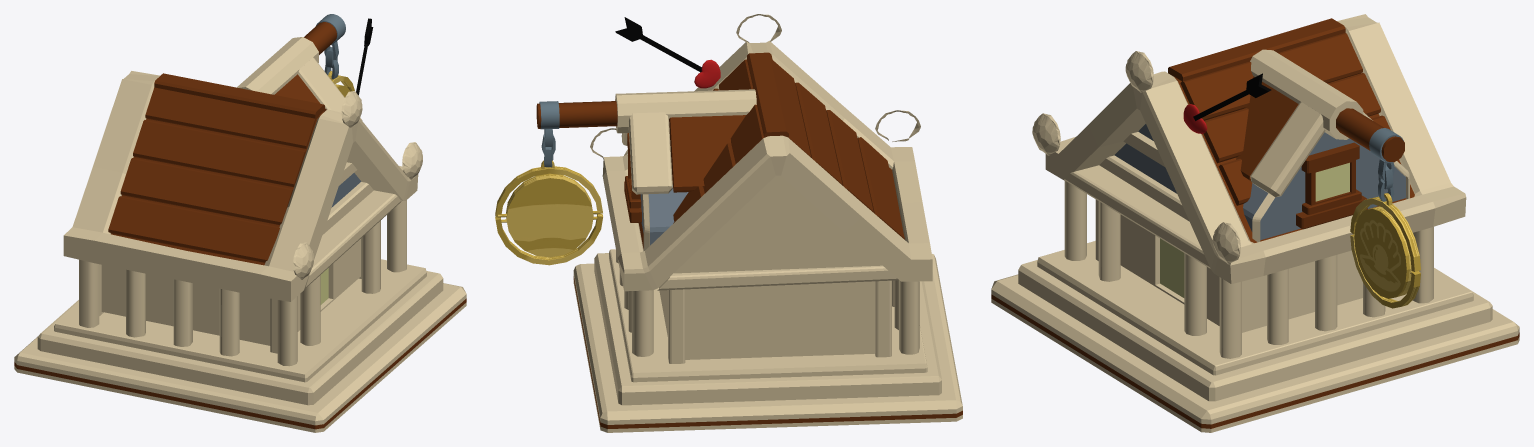
Rendered from Bank_valentines_building.glb.
3 views of the same model, side by side, from view 1: azimuth 30°, elevation 25°; view 2: azimuth 150°, elevation 25°; view 3: azimuth 270°, elevation 25° (orthographic). The views are drawn at different scales.
Bounding box in the file's own units: 0.178 × 0.1188 × 0.178.
8 materials, 1 textured.
